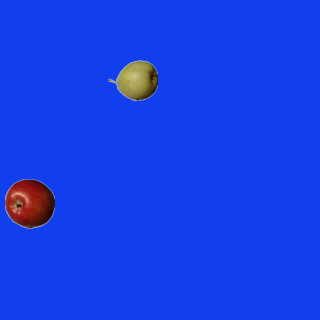Apple Braeburn: (4, 178, 54, 228)
Pear: (107, 55, 157, 105)
